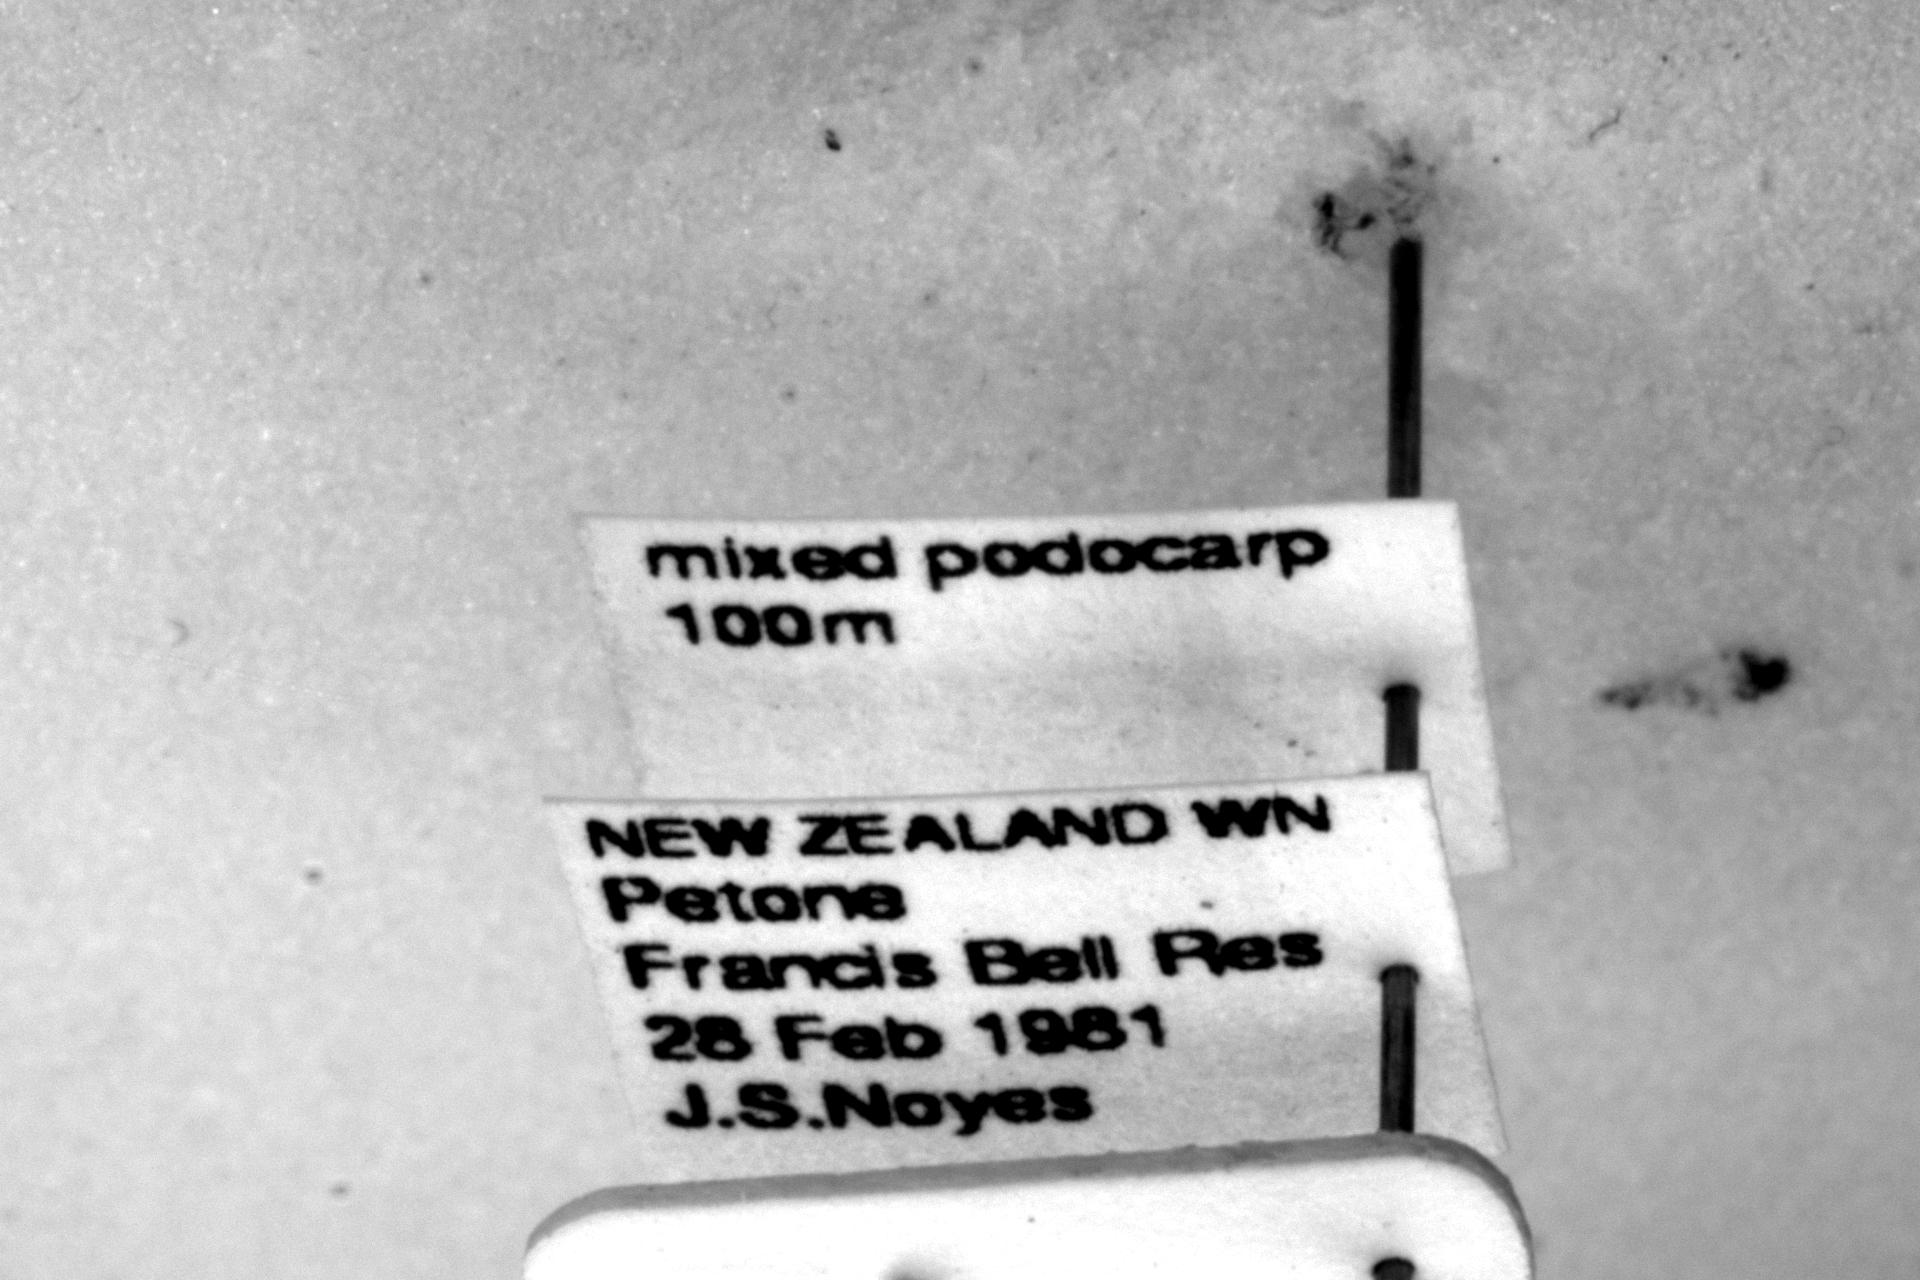typed_label: (547, 776, 1504, 1181), (581, 499, 1511, 874)
